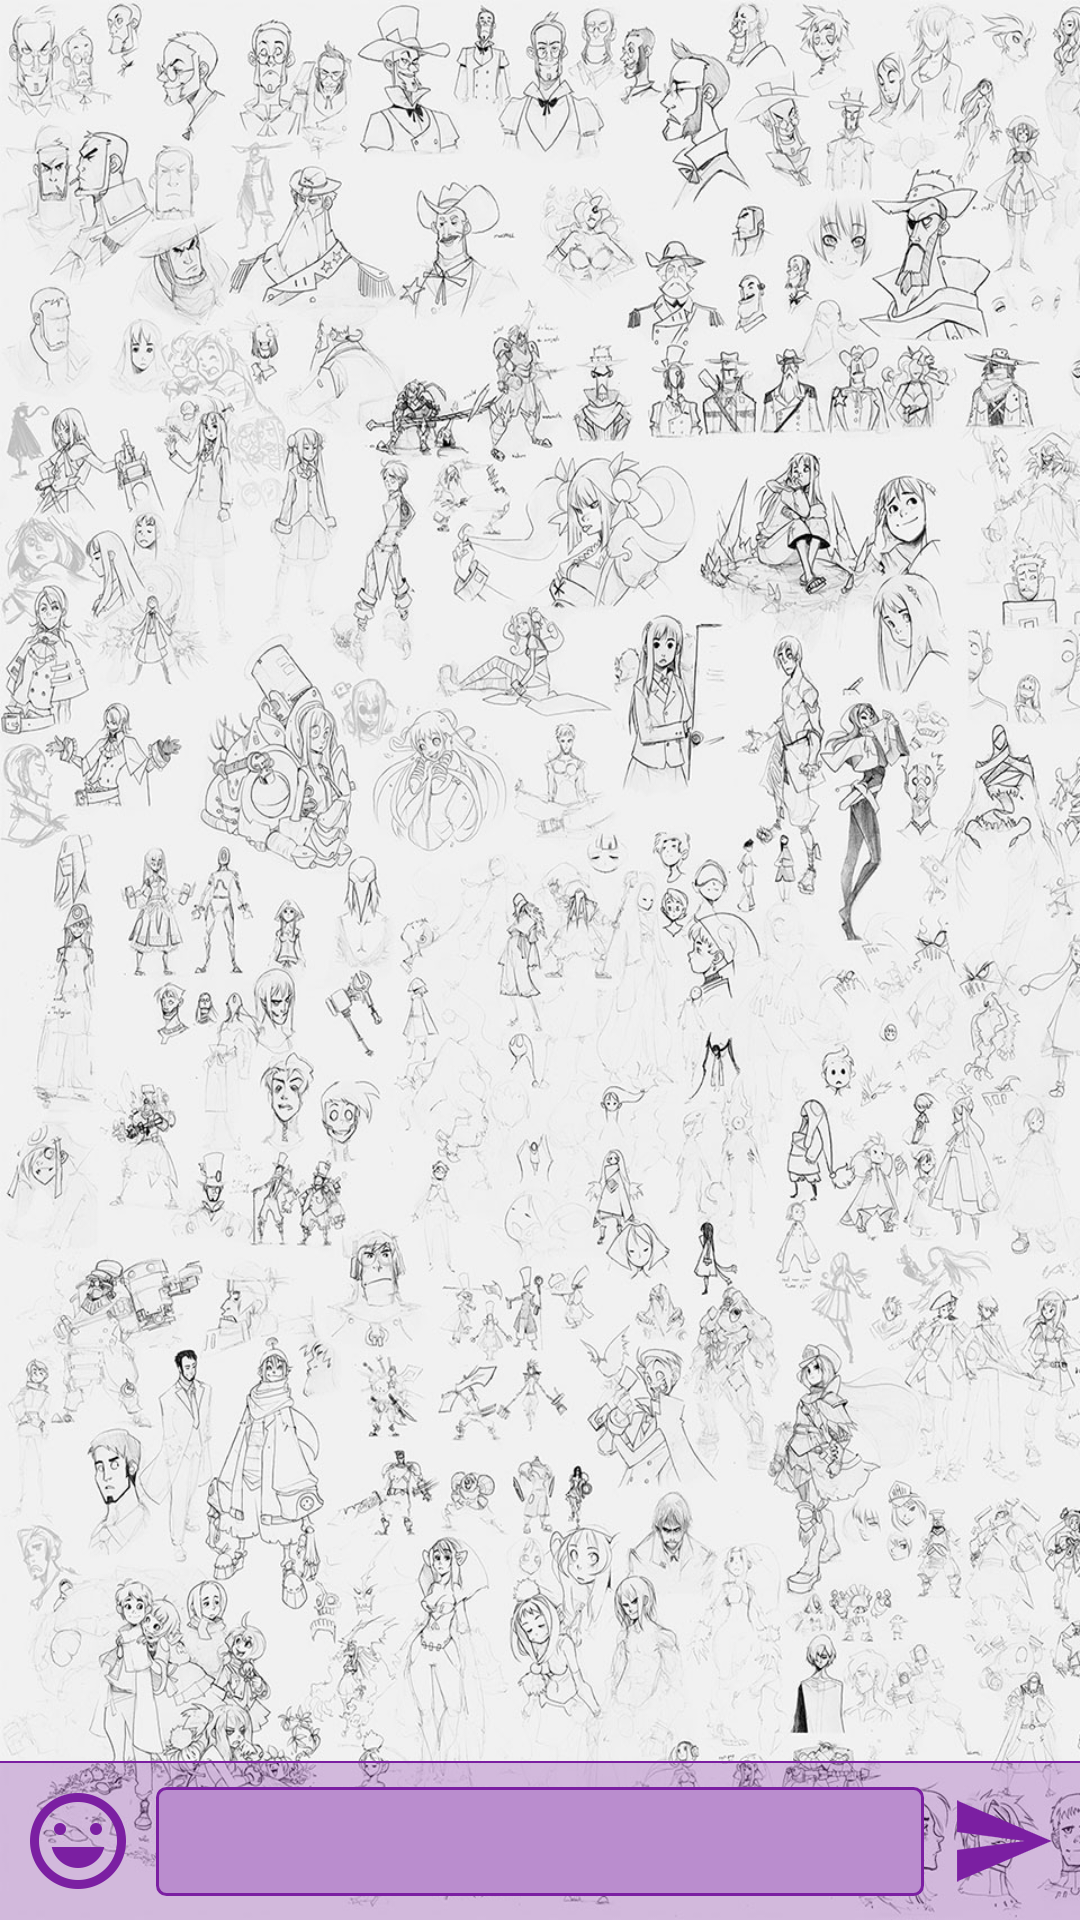

Where icons sit on this 1080px×1920px app screen, as (x1, y1, x2, y2):
Enviar mensagem: (948, 1787, 1056, 1895)
Escolher emotion: (30, 1787, 132, 1889)
